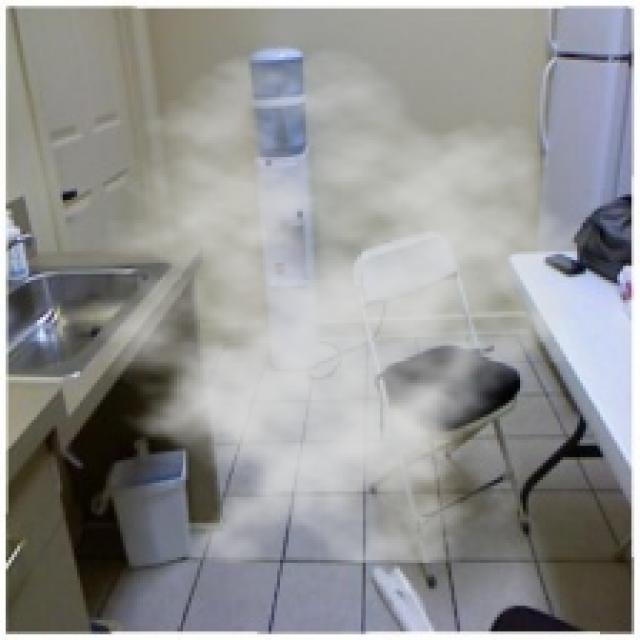Smoke: (43, 46, 600, 563)
